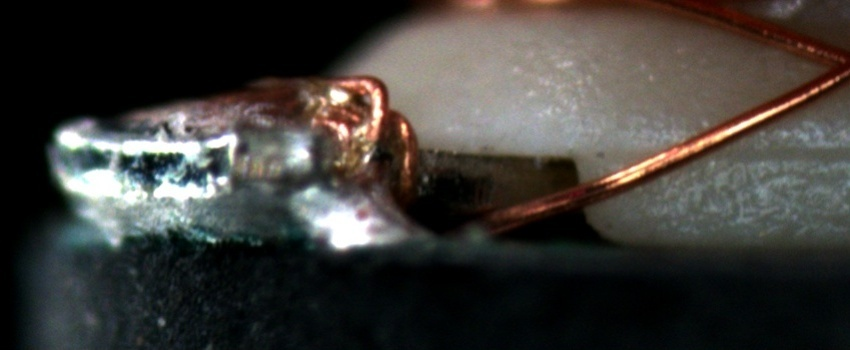CL: (798, 32, 850, 95)
DL: (707, 122, 849, 184)
TE: (301, 69, 415, 193)
